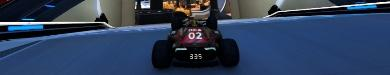Car: (150, 15, 239, 68)
obstacles-Borders: (0, 12, 389, 71)
